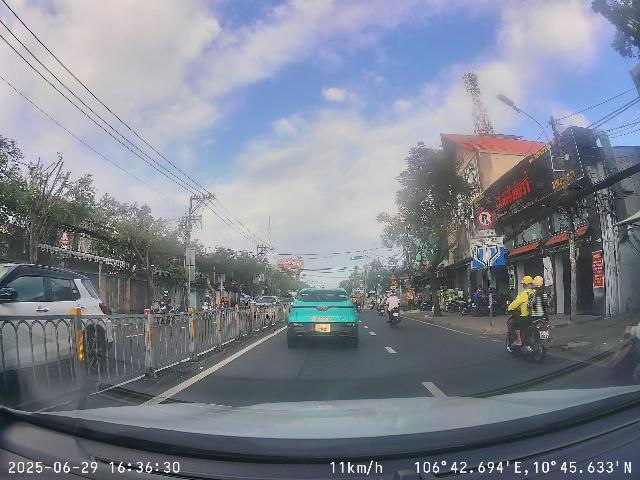124b-cam-oto-quay-dau-xe: (477, 209, 494, 228)
